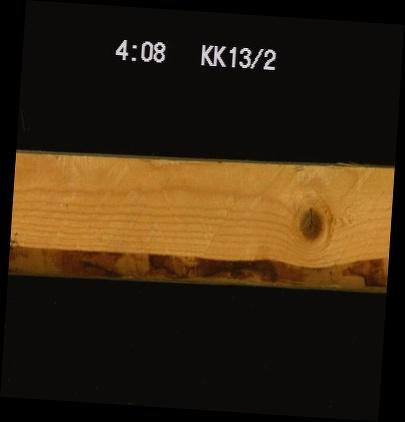sound_knot: (296, 205, 323, 242)
wave: (9, 241, 387, 286)
